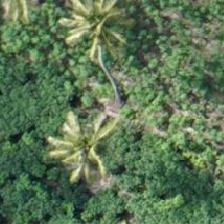coconut_tree: (46, 96, 136, 186), (52, 0, 142, 74)
